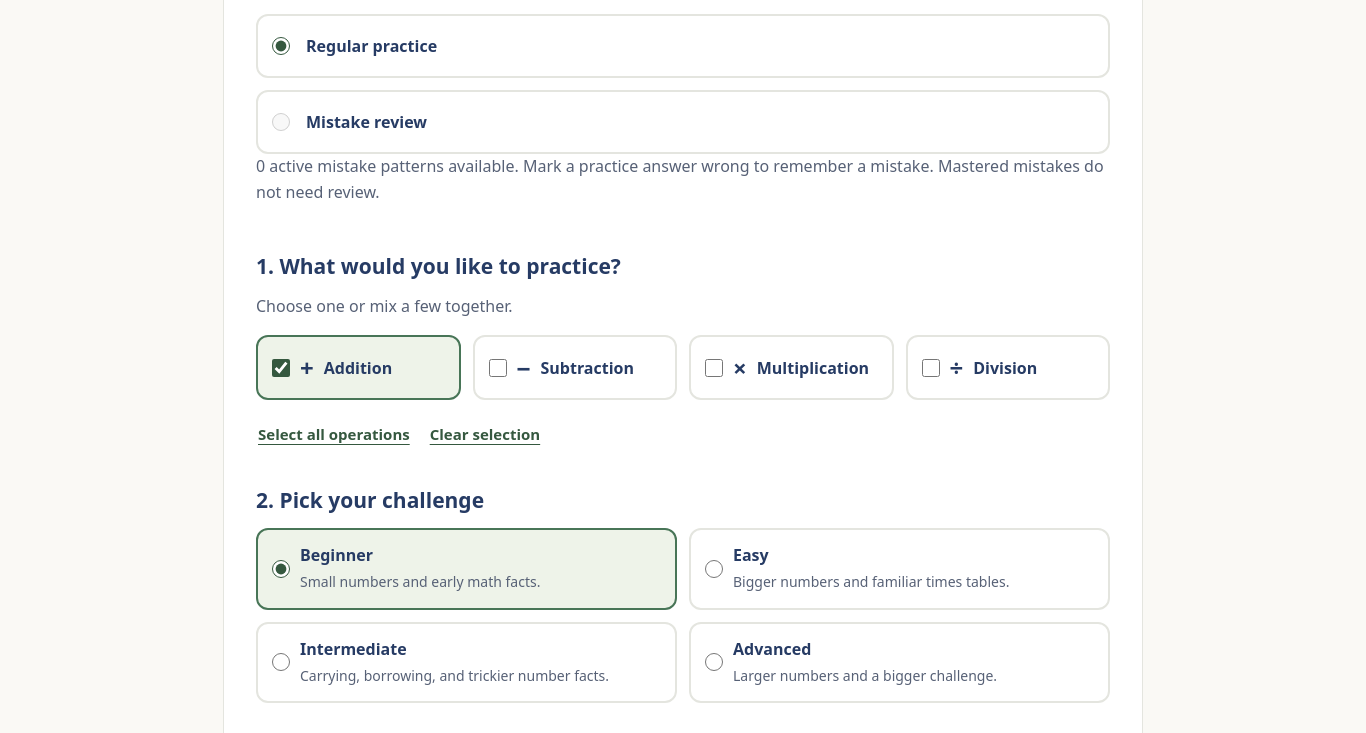
Test: Practice configuration › supports mixing operations and selecting all without duplicate selections
This screenshot has width=1366, height=733.
(page scrolled)
Click the checkbox labelled "Multiplication": (714, 368) x1=705 y1=359 x2=723 y2=377
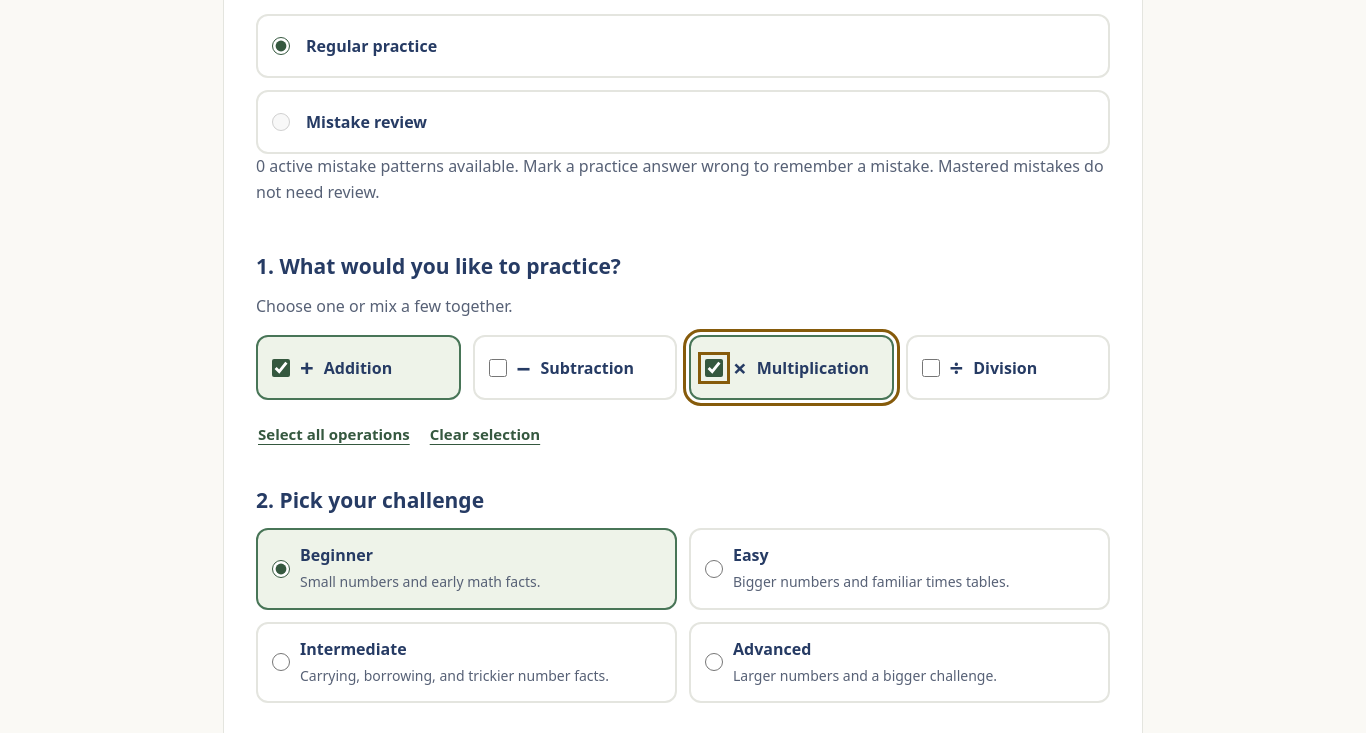
Expected: the checkbox labelled "Addition" is checked, x1=272 y1=359 x2=290 y2=377
Now the checkbox labelled "Multiplication" is checked, box x1=705 y1=359 x2=723 y2=377
Click the button "Select all operations": (334, 434) x1=256 y1=412 x2=412 y2=456
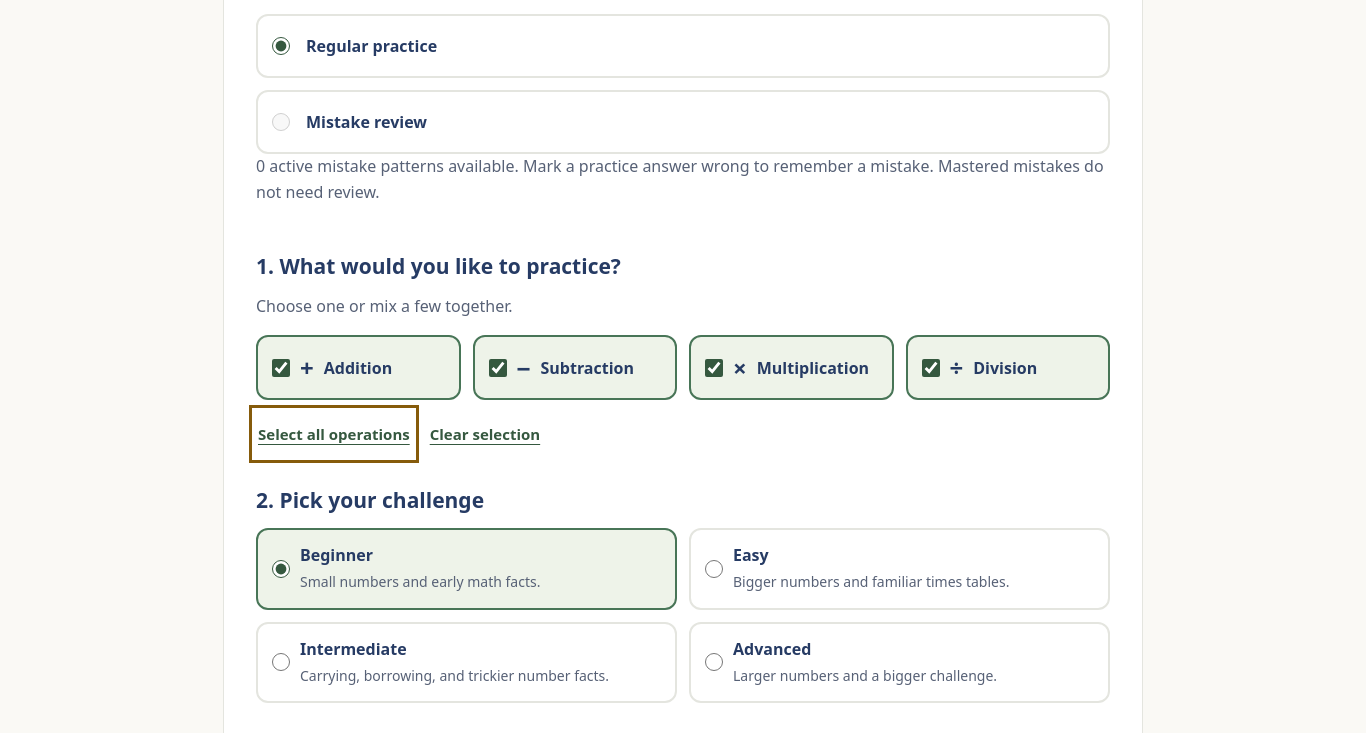
Click the button "Select all operations": (334, 434) x1=256 y1=412 x2=412 y2=456
(page scrolled)
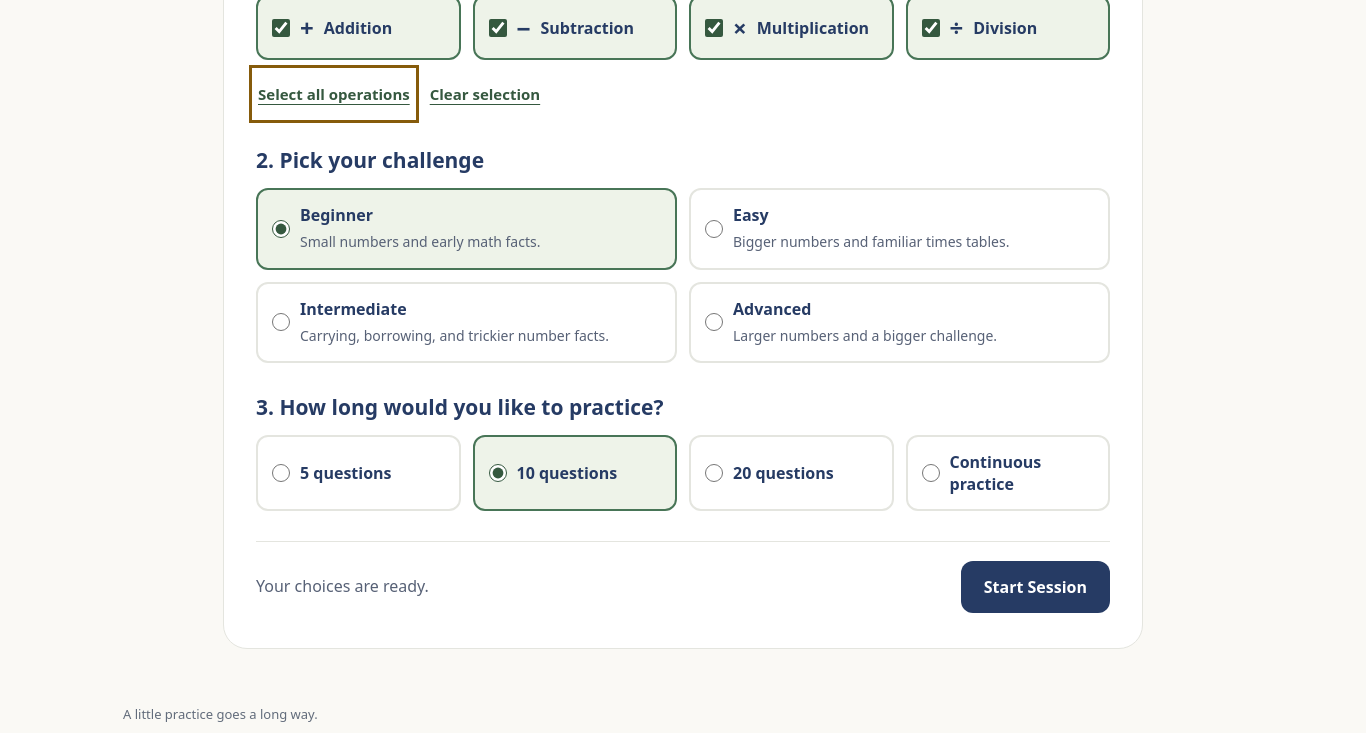
Now the checkbox labelled "× Multiplication" is checked, box x1=705 y1=19 x2=723 y2=37
Now the checkbox labelled "− Subtraction" is checked, box x1=488 y1=19 x2=506 y2=37
Now the checkbox labelled "÷ Division" is checked, box x1=922 y1=19 x2=940 y2=37
Click the button "Start Session": (1035, 587) x1=961 y1=561 x2=1110 y2=613
(page scrolled)
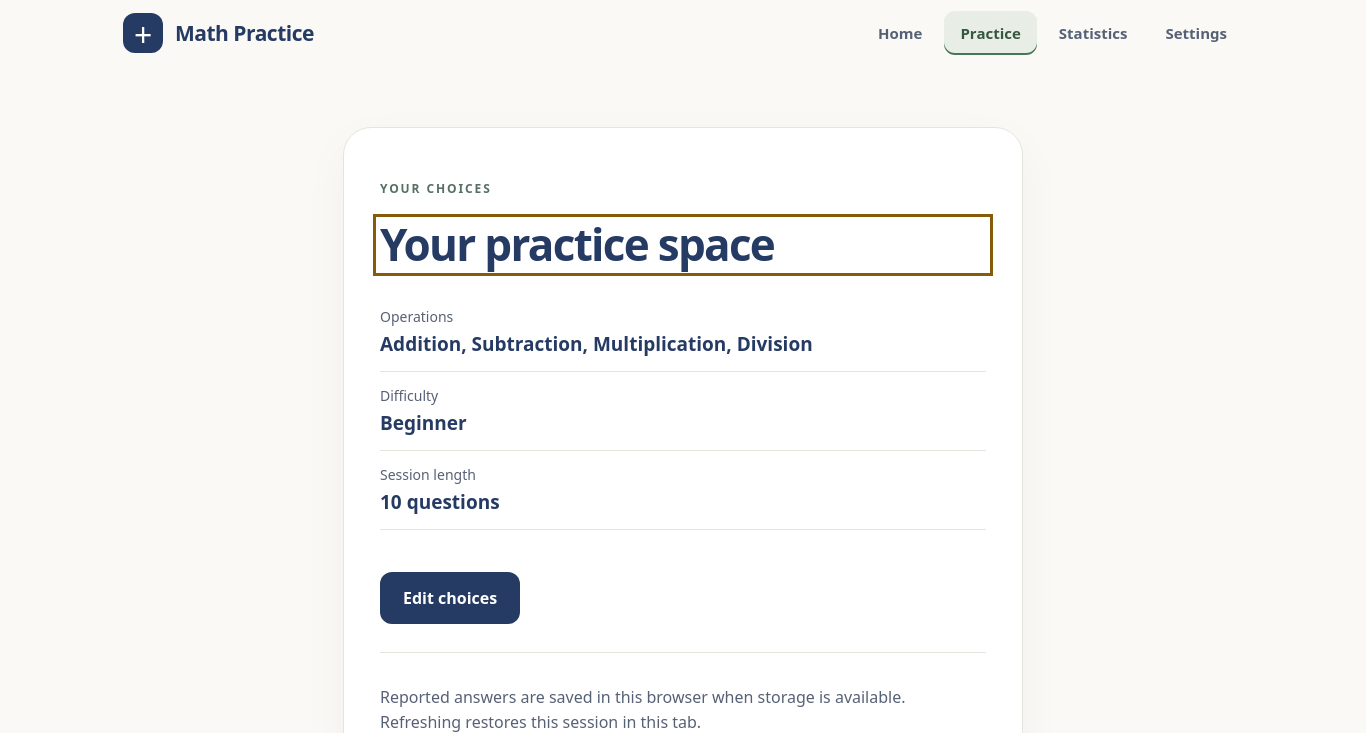
Now the text "Addition, Subtraction, Multiplication, Division" is shown, box x1=380 y1=330 x2=813 y2=356
